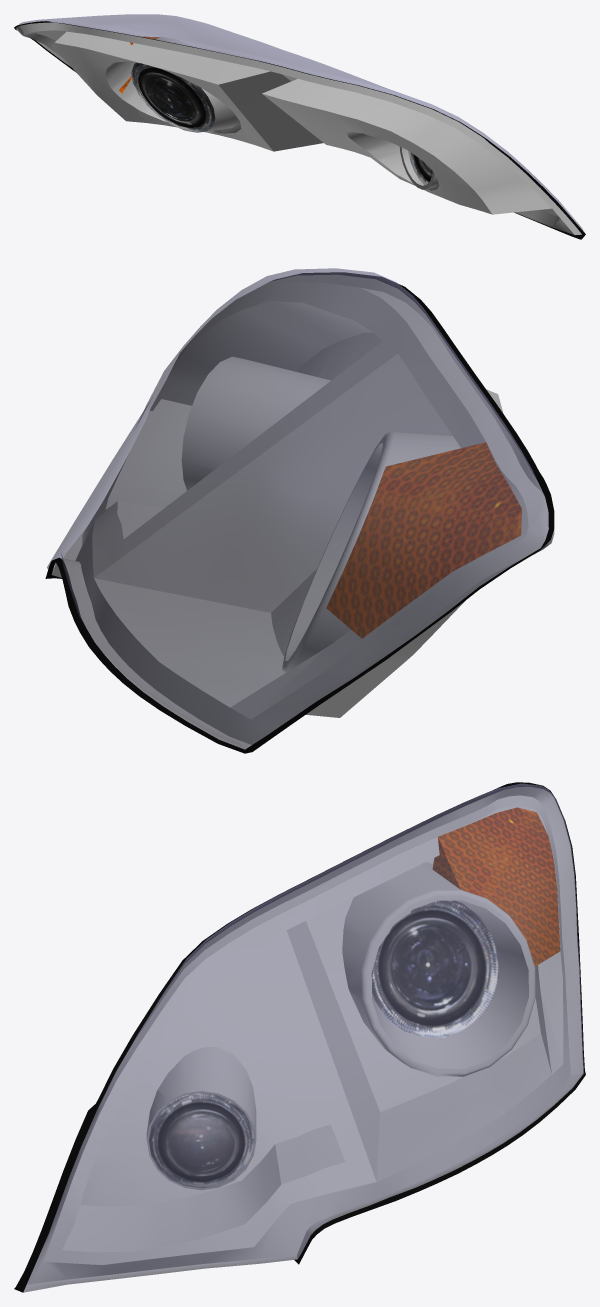
3 renders of one model, top to bottom at view 1: azimuth 30°, elevation 25°; view 2: azimuth 150°, elevation 25°; view 3: azimuth 270°, elevation 25°, orthographic. The views are drawn at different scales.
Parts seen in each view (by area): view 1: H812_061B_L_H812_061B_L_4_DaS, H812_061B_L_H812_061B_L_6_DTaSI, H812_061B_L_H812_061B_L_3_N, H812_061B_L_H812_061B_L_7_D, H812_061B_L_1_N_H812_061B_L; view 2: H812_061B_L_H812_061B_L_6_DTaSI, H812_061B_L_H812_061B_L_4_DaS, H812_061B_L_H812_061B_L_2_N, H812_061B_L_H812_061B_L_7_D; view 3: H812_061B_L_H812_061B_L_6_DTaSI, H812_061B_L_H812_061B_L_4_DaS, H812_061B_L_H812_061B_L_3_N, H812_061B_L_H812_061B_L_2_N, H812_061B_L_1_N_H812_061B_L, H812_061B_L_H812_061B_L_7_D.
Boxes of the visible parts, left/top/right/bottom form: H812_061B_L_H812_061B_L_4_DaS: left=16, top=22, right=581, bottom=234; H812_061B_L_H812_061B_L_6_DTaSI: left=19, top=14, right=584, bottom=232; H812_061B_L_H812_061B_L_3_N: left=131, top=63, right=215, bottom=132; H812_061B_L_H812_061B_L_7_D: left=14, top=21, right=585, bottom=239; H812_061B_L_1_N_H812_061B_L: left=408, top=150, right=437, bottom=189; H812_061B_L_H812_061B_L_6_DTaSI: left=47, top=268, right=548, bottom=749; H812_061B_L_H812_061B_L_4_DaS: left=52, top=274, right=554, bottom=749; H812_061B_L_H812_061B_L_2_N: left=326, top=442, right=521, bottom=638; H812_061B_L_H812_061B_L_7_D: left=45, top=272, right=554, bottom=753; H812_061B_L_H812_061B_L_6_DTaSI: left=23, top=783, right=583, bottom=1292; H812_061B_L_H812_061B_L_4_DaS: left=23, top=786, right=583, bottom=1292; H812_061B_L_H812_061B_L_3_N: left=371, top=900, right=498, bottom=1037; H812_061B_L_H812_061B_L_2_N: left=432, top=807, right=560, bottom=966; H812_061B_L_1_N_H812_061B_L: left=149, top=1093, right=254, bottom=1188; H812_061B_L_H812_061B_L_7_D: left=14, top=782, right=585, bottom=1292.
Bounding box in the file's own units: 57.66 × 26.03 × 52.09.
